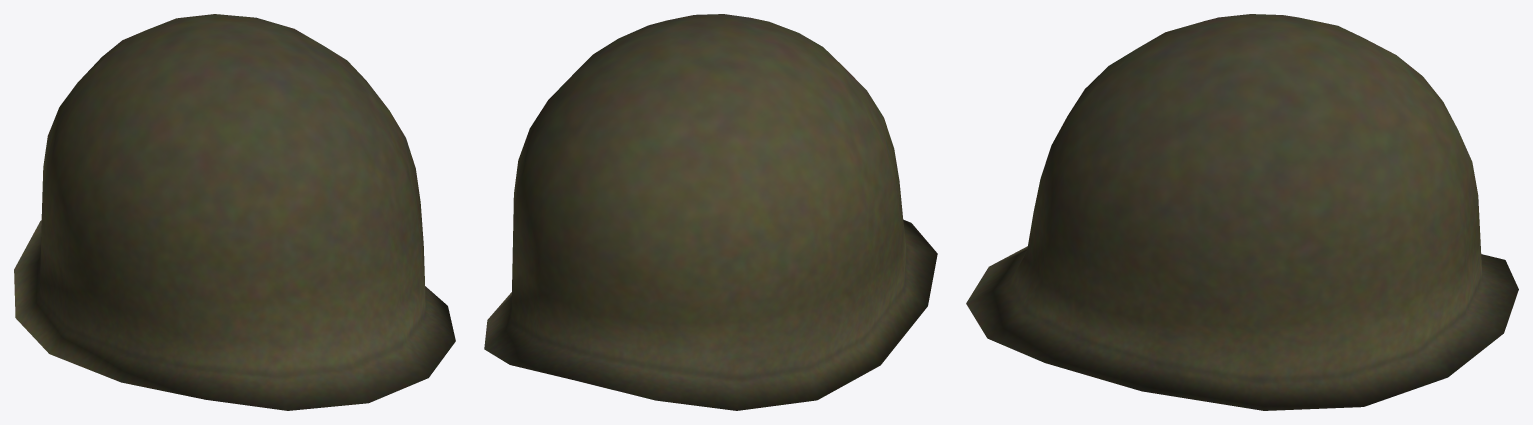
File: M1Helmet_WorldItem.fbx
3 renders of one model, left to right at view 1: azimuth 30°, elevation 25°; view 2: azimuth 150°, elevation 25°; view 3: azimuth 270°, elevation 25°, orthographic. The views are drawn at different scales.
Visible parts, largest first — view 1: Plane.001; view 2: Plane.001; view 3: Plane.001.
Part boxes in pixels (x1,y1,x2,y2): Plane.001: [14, 14, 455, 410]; Plane.001: [484, 14, 937, 410]; Plane.001: [966, 14, 1518, 410].
Bounding box in the file's own units: 0.1572 × 0.1205 × 0.2061.
